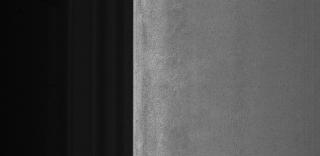silk spot: (162, 36, 200, 128)
